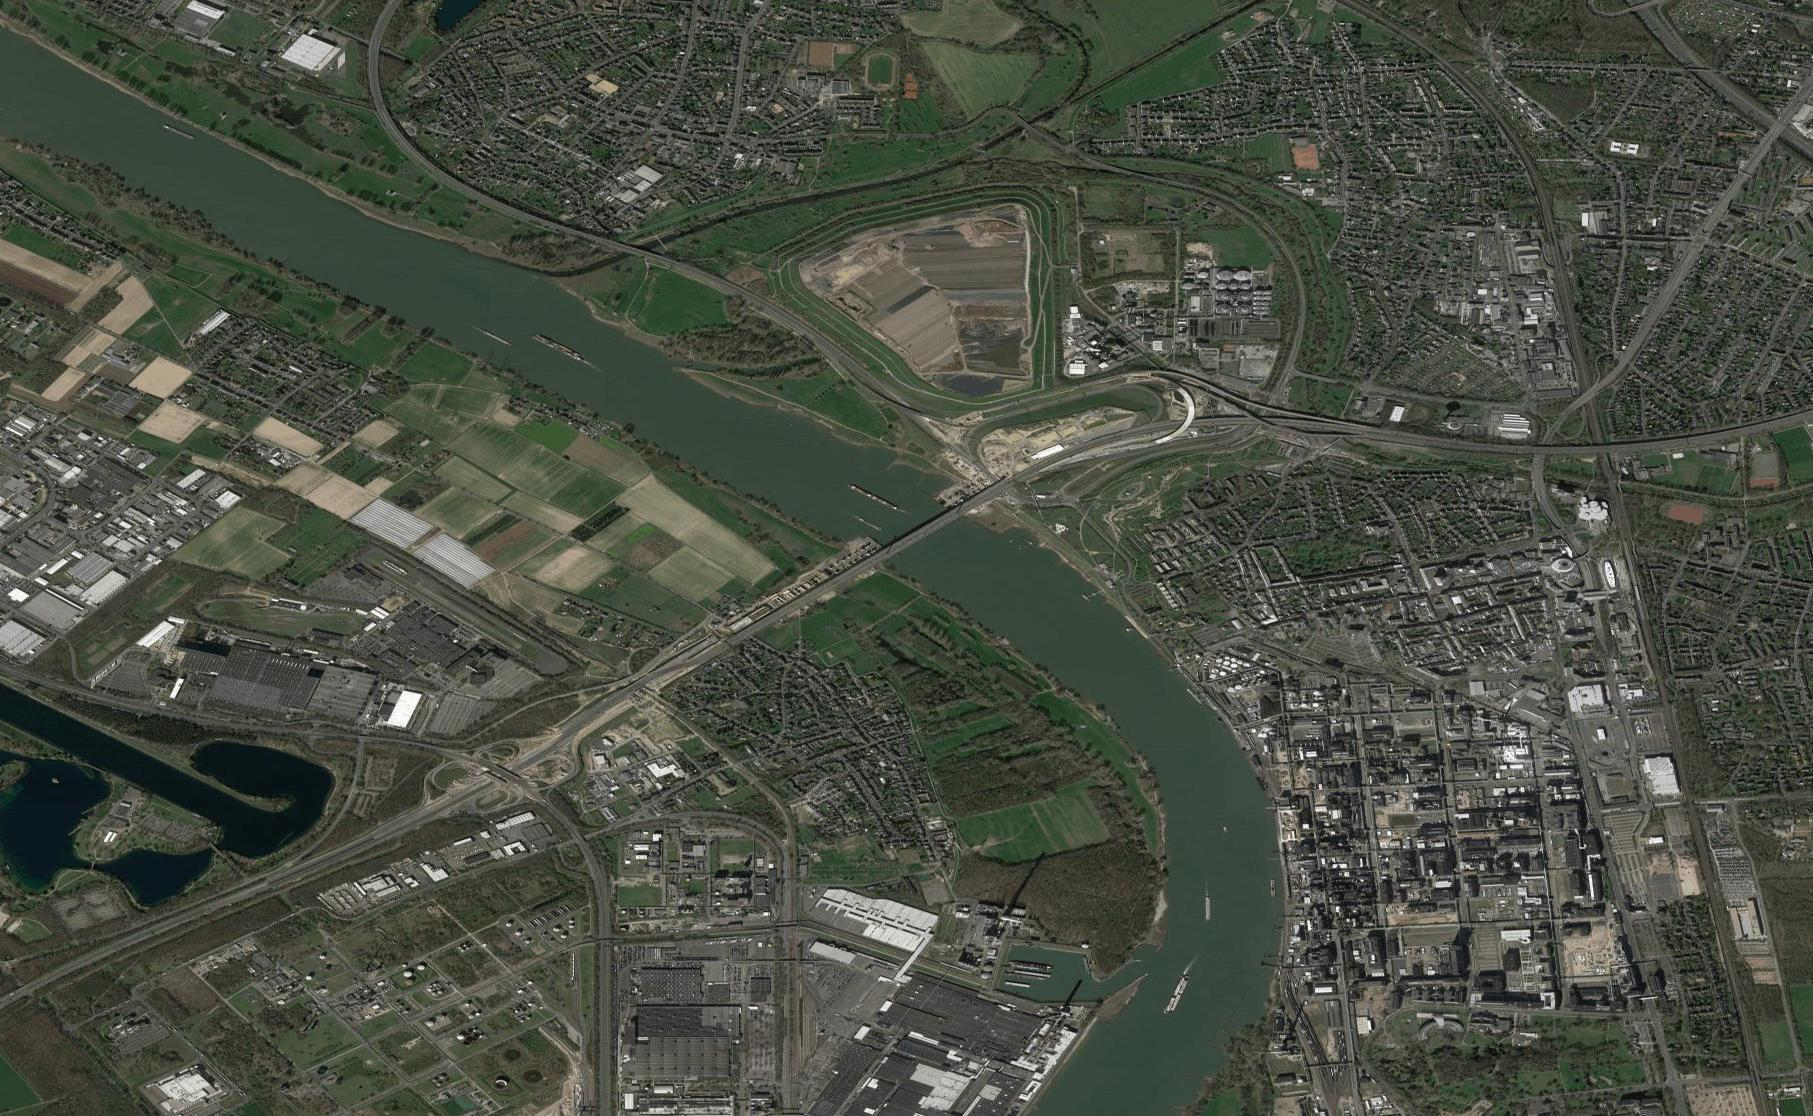bridge: (862, 491, 983, 570)
industrial: (635, 891, 1045, 1116), (1, 394, 240, 671)
motorway: (780, 315, 903, 408), (644, 252, 776, 324), (1588, 287, 1673, 396), (1739, 73, 1810, 186), (1671, 183, 1742, 295), (508, 203, 644, 259), (1349, 1, 1444, 62), (414, 151, 505, 208), (1620, 1, 1696, 67), (1145, 410, 1247, 460), (1358, 418, 1475, 460), (1244, 401, 1361, 441), (1538, 202, 1577, 313), (1706, 401, 1813, 441), (1598, 421, 1706, 461), (1566, 313, 1605, 423), (1445, 58, 1507, 127), (363, 75, 418, 151), (355, 1, 411, 76), (1472, 429, 1601, 460), (1507, 129, 1551, 202), (1694, 69, 1738, 101)
